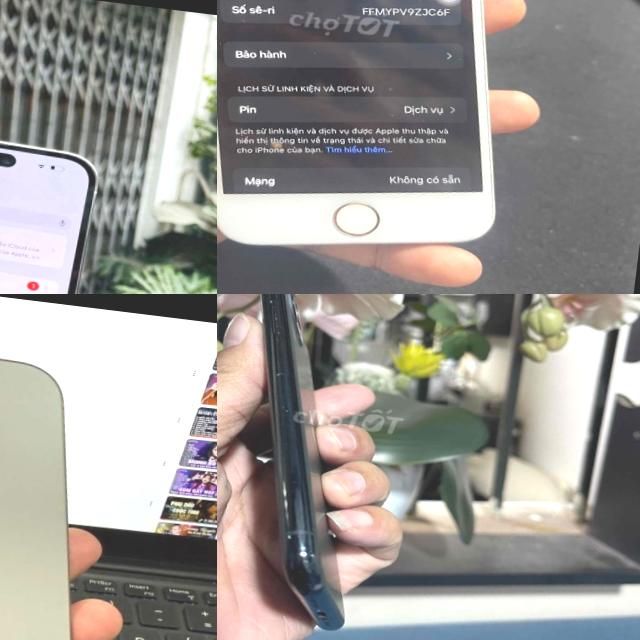gen_11: (259, 294, 343, 630)
gen_15: (0, 117, 104, 294)
gen_16: (0, 322, 128, 640)
gen_7_8: (217, 0, 554, 275)
